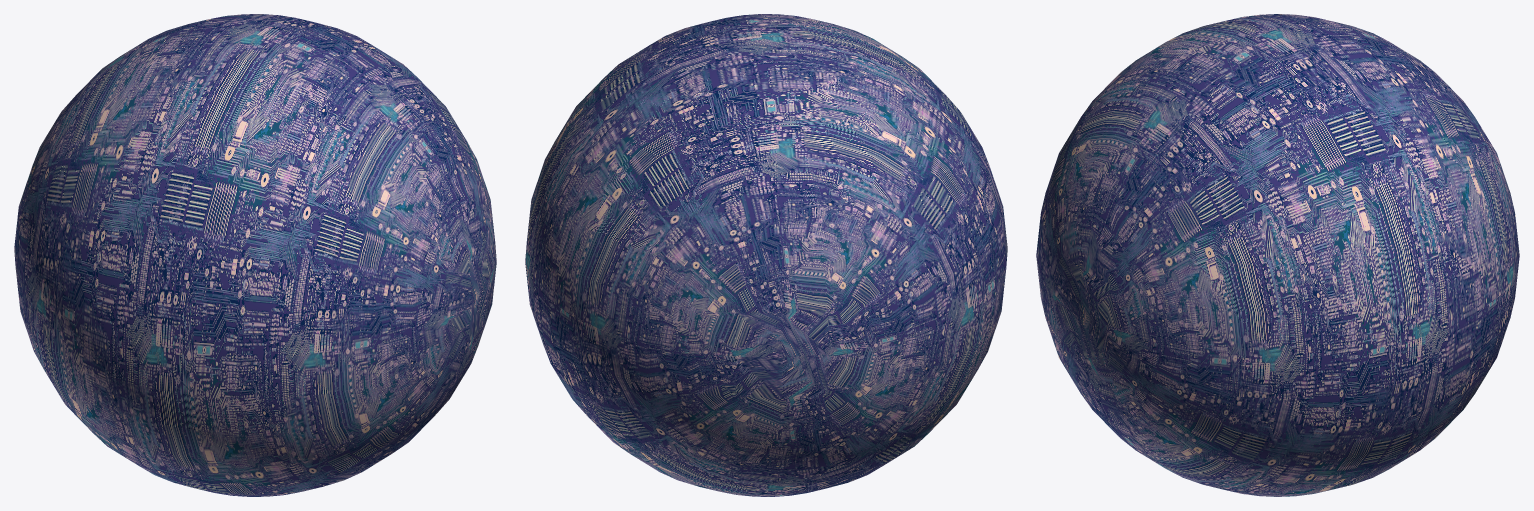
File: Chipwave.glb
3 renders of one model, left to right at view 1: azimuth 30°, elevation 25°; view 2: azimuth 150°, elevation 25°; view 3: azimuth 270°, elevation 25°, orthographic.
Visible parts, largest first — view 1: Sphere; view 2: Sphere; view 3: Sphere.
Part boxes in pixels (x1,y1,x2,y2): Sphere: [14, 14, 496, 496]; Sphere: [525, 14, 1007, 496]; Sphere: [1036, 14, 1519, 496].
Size of the model in its own units: 84.58 by 84.58 by 84.58.
1 material, 1 textured.
